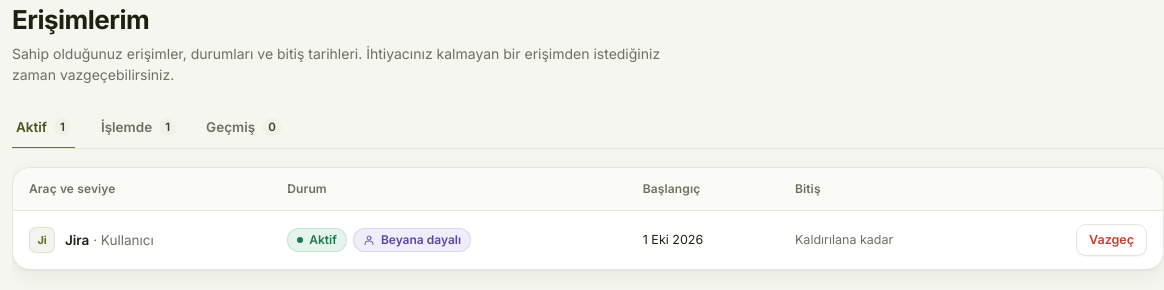
Test: my access › labels self-reported access and offers no actions on a grant in progress
This screenshot has width=1164, height=290.
Expected: the text "Beyana dayalı" is shown, [353, 228, 471, 252]
Click the tab "İşlemde 1" at (138, 128), box [97, 107, 180, 149]
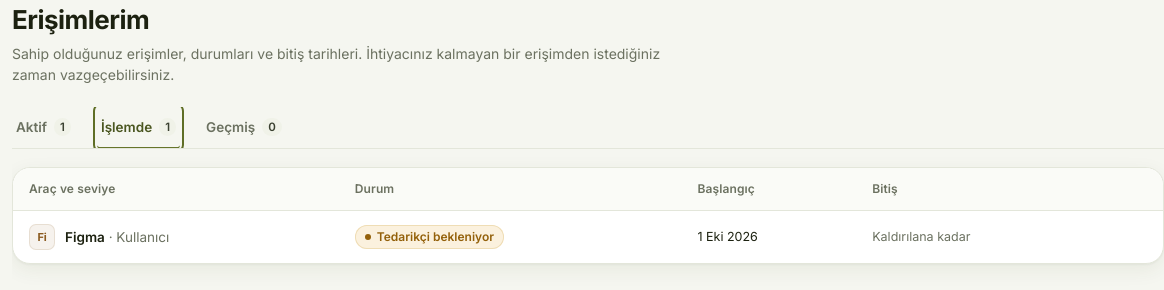
Expected: the button "Vazgeç" is not shown
Expected: the text "Tedarikçi bekleniyor" is shown, [355, 225, 504, 249]
